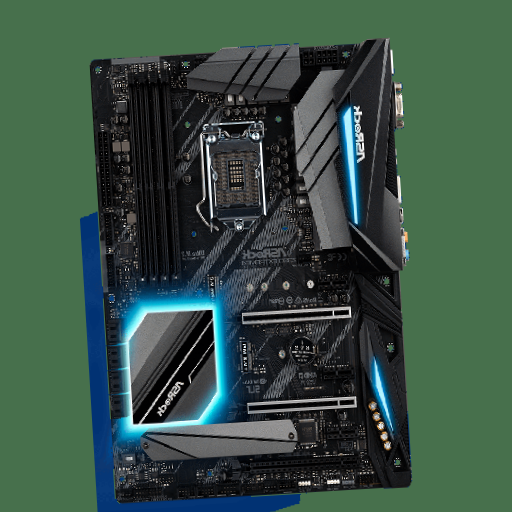CPU: (202, 132, 269, 231)
GPU: (221, 306, 352, 331), (225, 398, 360, 421), (228, 456, 364, 477)
MOTHERBOARD: (82, 37, 424, 503)
RAM: (127, 72, 186, 292)
SSD: (235, 338, 254, 375), (205, 276, 219, 305)
